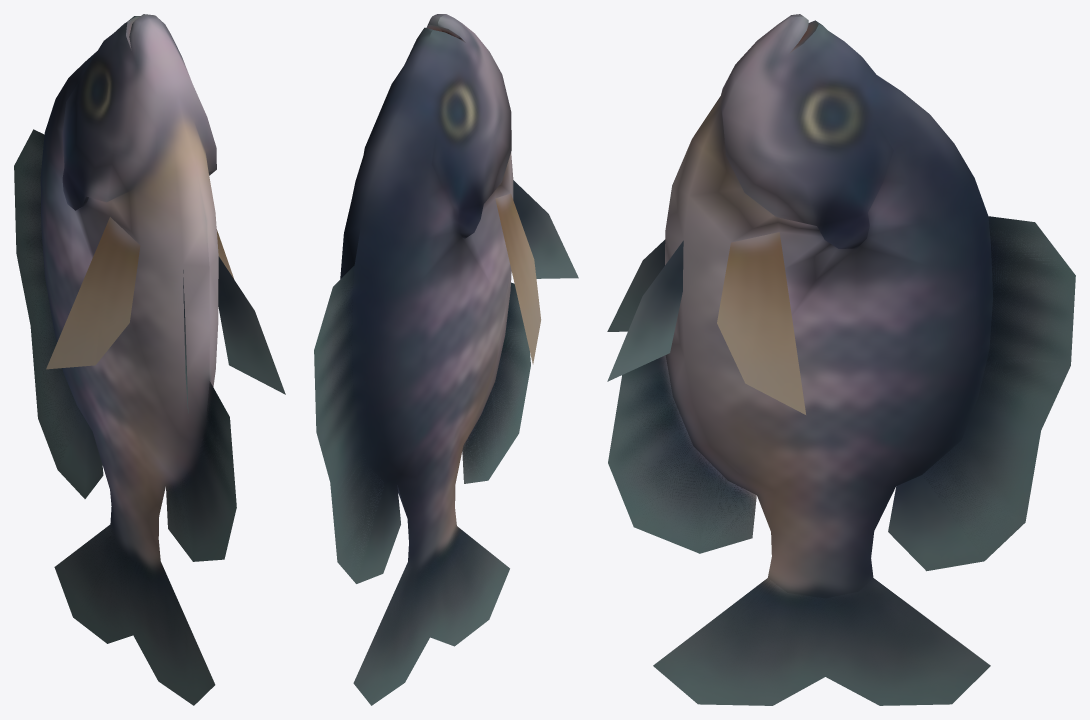
File: bluegill.glb
3 views of the same model, side by side, from view 1: azimuth 30°, elevation 25°; view 2: azimuth 150°, elevation 25°; view 3: azimuth 270°, elevation 25° (orthographic). The views are drawn at different scales.
Parts seen in each view (by area): view 1: FishBlueguill_node6; view 2: FishBlueguill_node6; view 3: FishBlueguill_node6.
Boxes of the visible parts, box(x1,y1,x2,y2) form: FishBlueguill_node6: box(14, 14, 285, 705); FishBlueguill_node6: box(314, 14, 578, 705); FishBlueguill_node6: box(607, 14, 1075, 705).
Size of the model in its own units: 0.16 by 0.5205 by 0.3207.
1 material, 1 textured.
